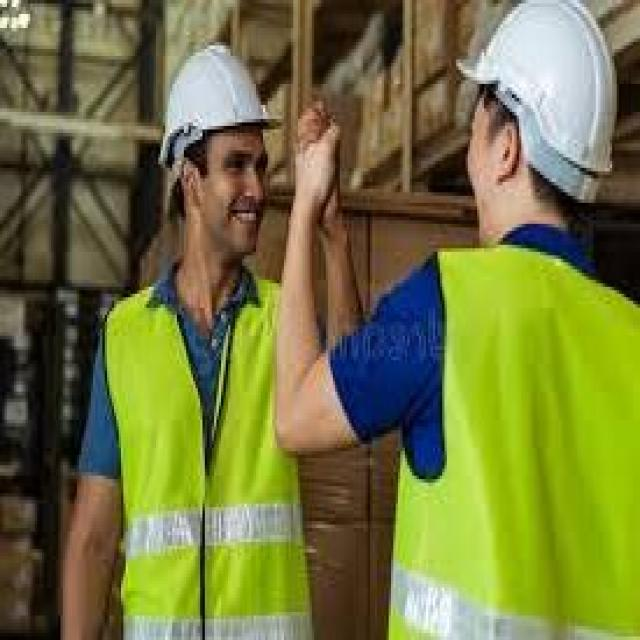Reflective-Jacket: (377, 242, 638, 636), (98, 273, 312, 633)
Safety-Helmet: (454, 0, 633, 206), (149, 35, 282, 175)
